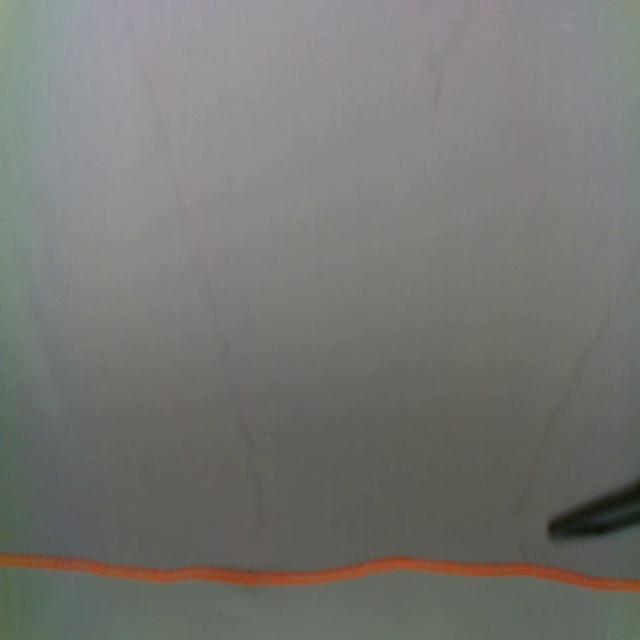crease: (128, 11, 267, 536), (514, 249, 640, 517)
